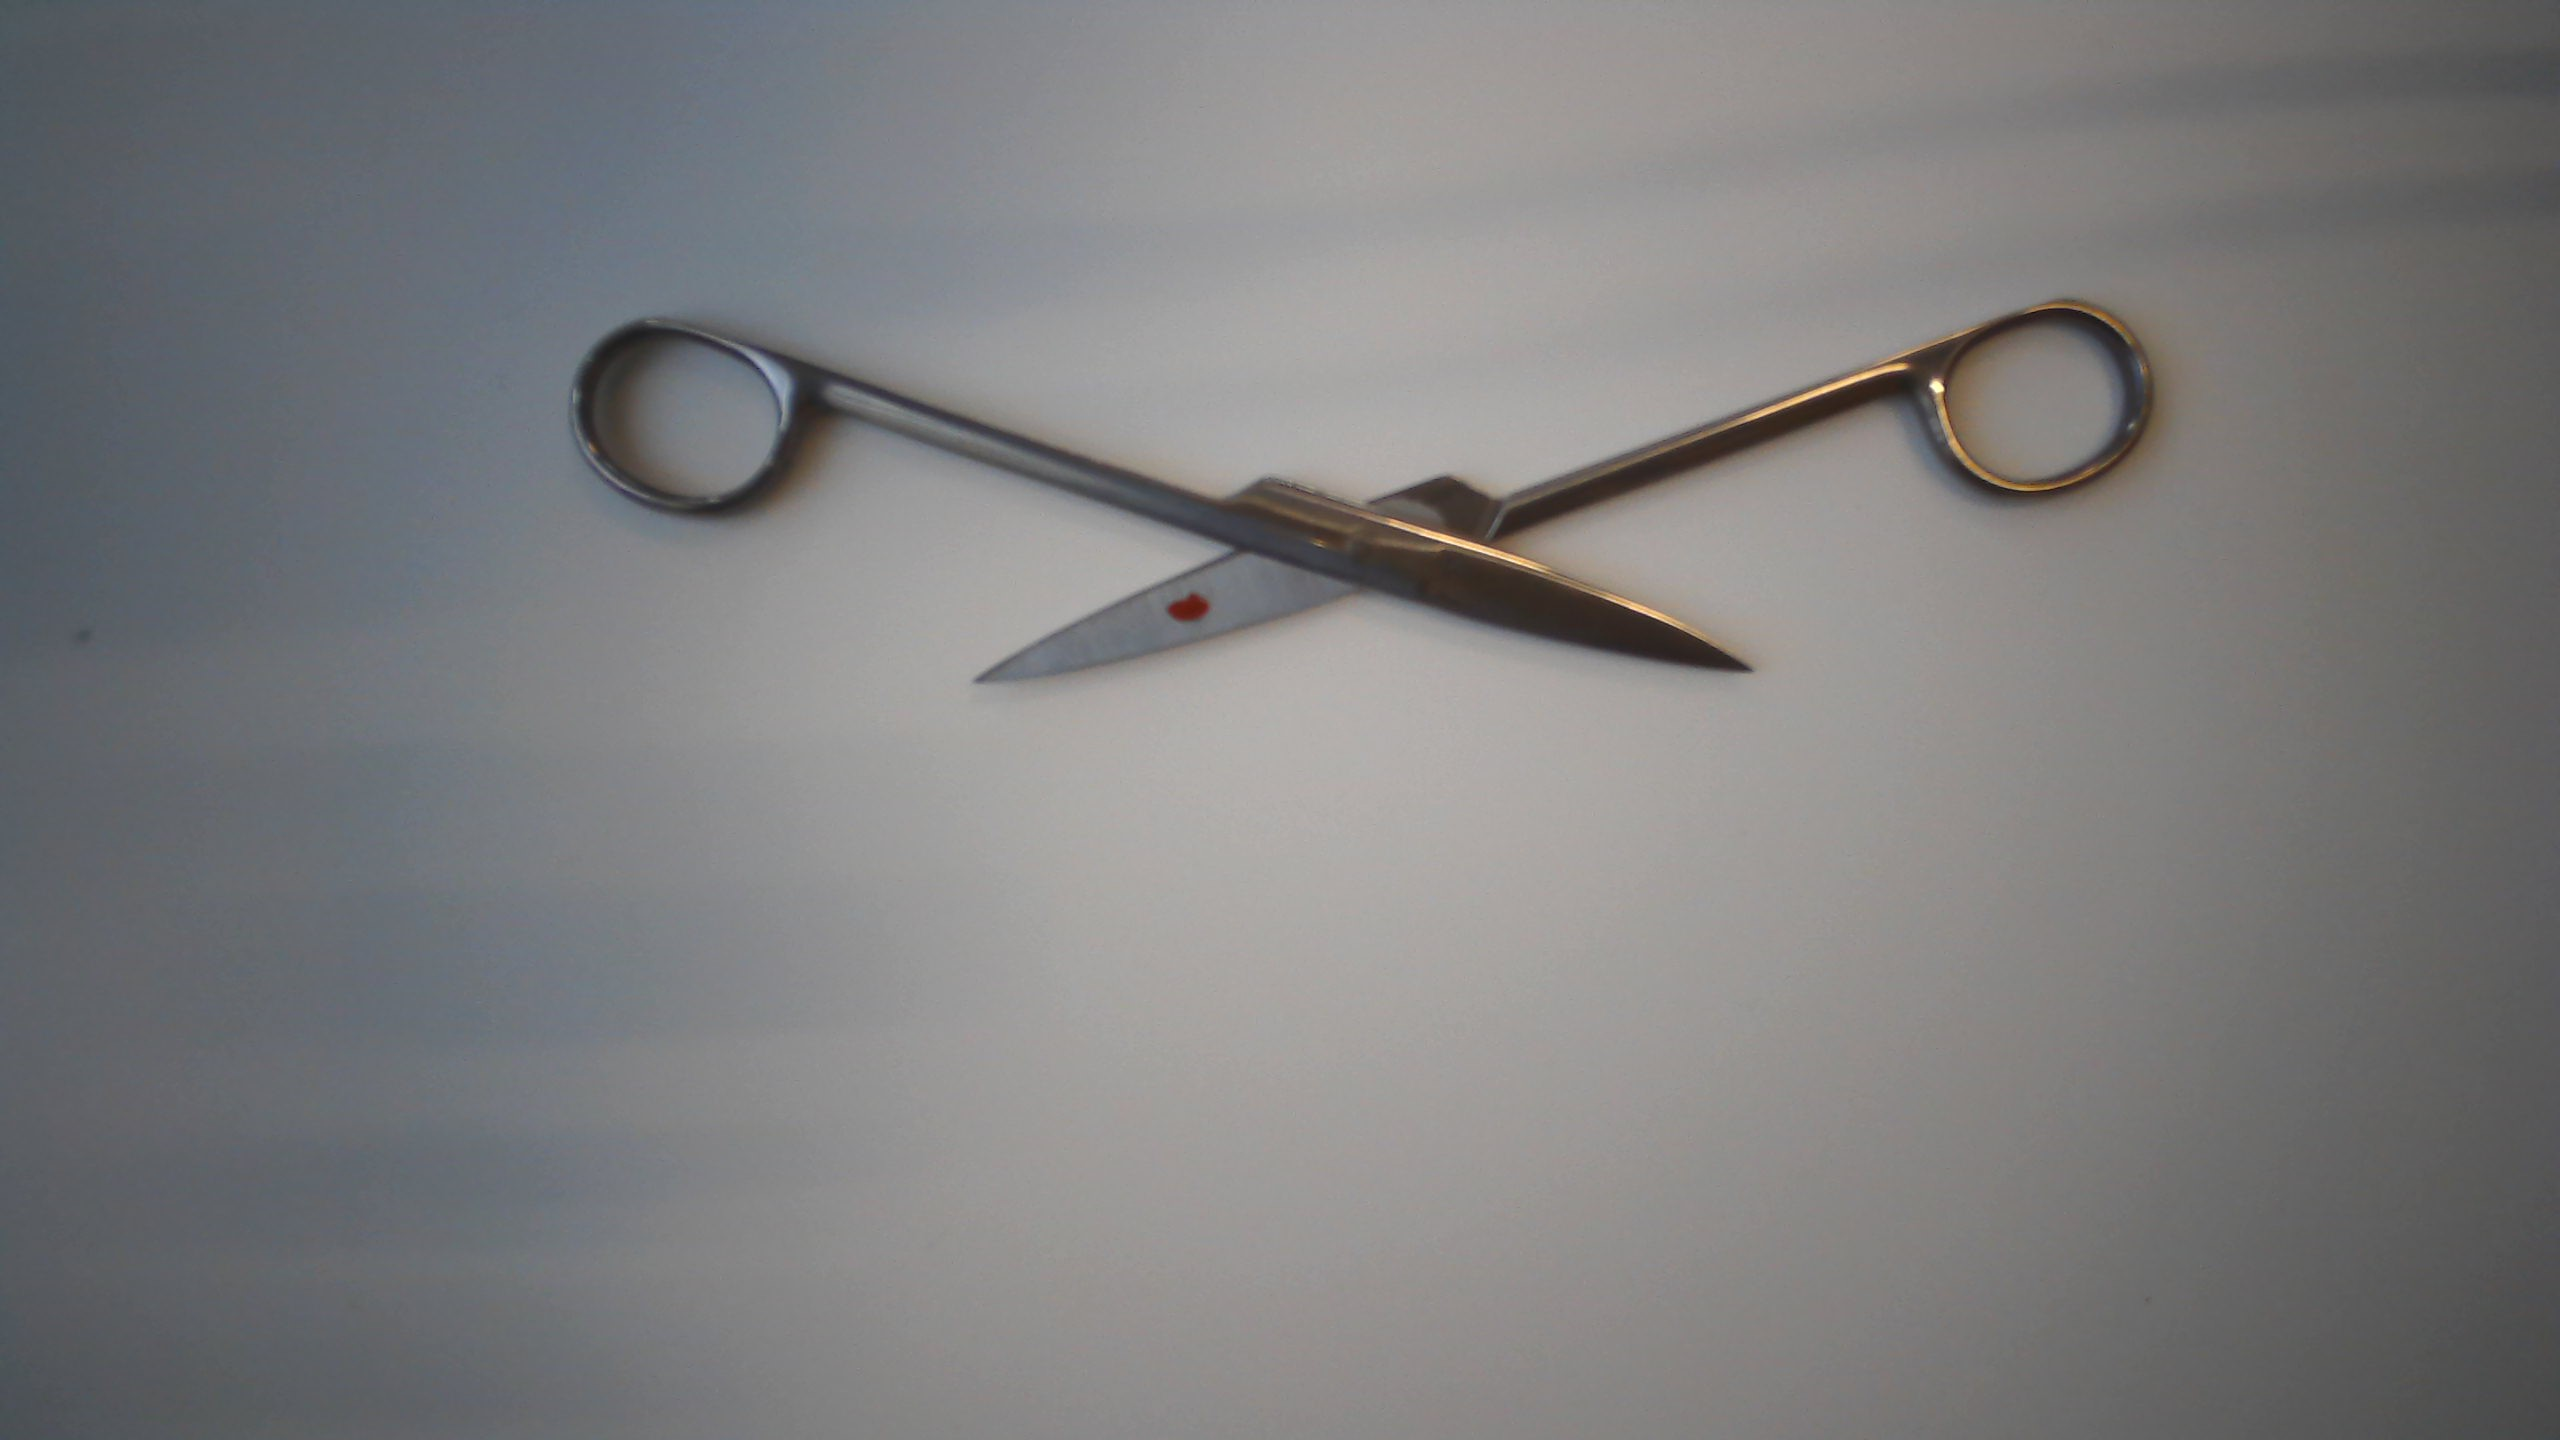Stain: (1152, 584, 1222, 631)
